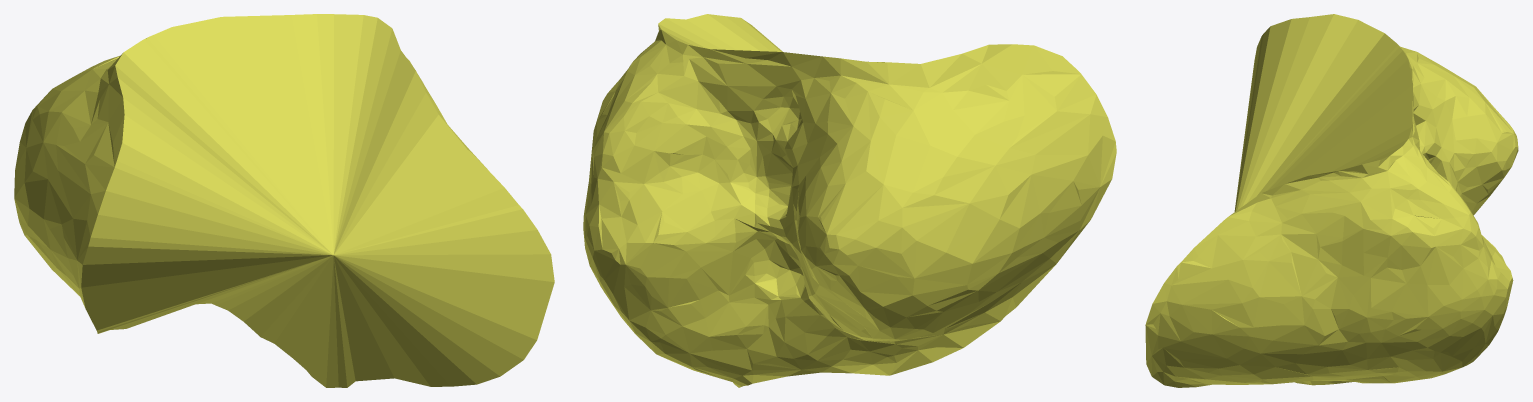
The model's file is Crown_25__Demo_Virtual_Patient.obj.
The picture shows the model from 3 angles, left to right: view 1: azimuth 30°, elevation 25°; view 2: azimuth 150°, elevation 25°; view 3: azimuth 270°, elevation 25°; orthographic projection. The views are drawn at different scales.
Bounding box in the file's own units: 9.68 × 7.7 × 8.91.
